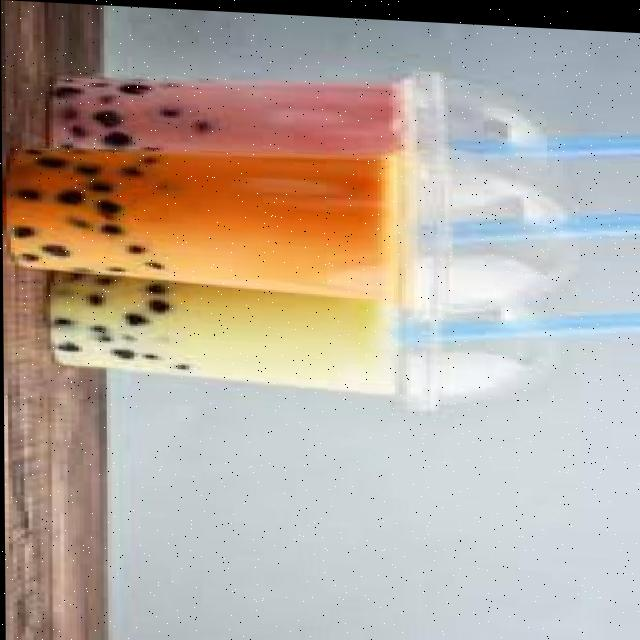cup: (9, 150, 398, 297), (50, 272, 392, 391), (49, 74, 441, 148)
